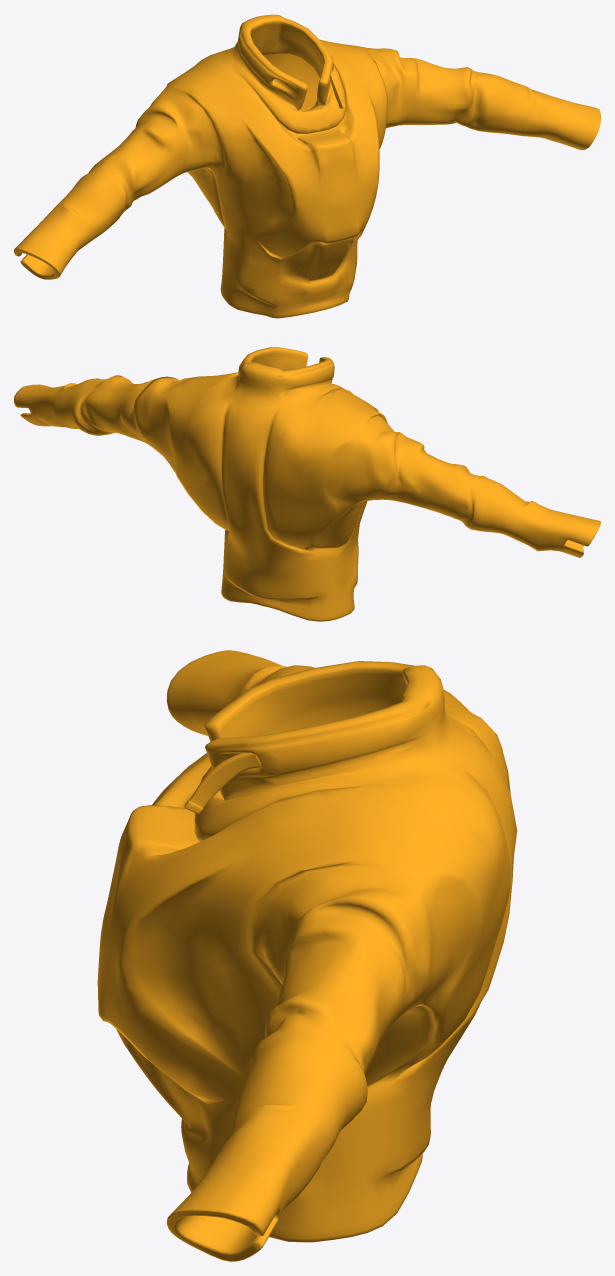
Rendered from armored_jacket.glb.
3 renders of one model, top to bottom at view 1: azimuth 30°, elevation 25°; view 2: azimuth 150°, elevation 25°; view 3: azimuth 270°, elevation 25°, orthographic. The views are drawn at different scales.
Visible parts, largest first — view 1: Object_2; view 2: Object_2; view 3: Object_2.
Part boxes in pixels (bbox=[...]): Object_2: bbox=[14, 14, 600, 318]; Object_2: bbox=[14, 347, 600, 621]; Object_2: bbox=[97, 650, 517, 1261].
Size of the model in its own units: 188 by 79.47 by 59.11.
